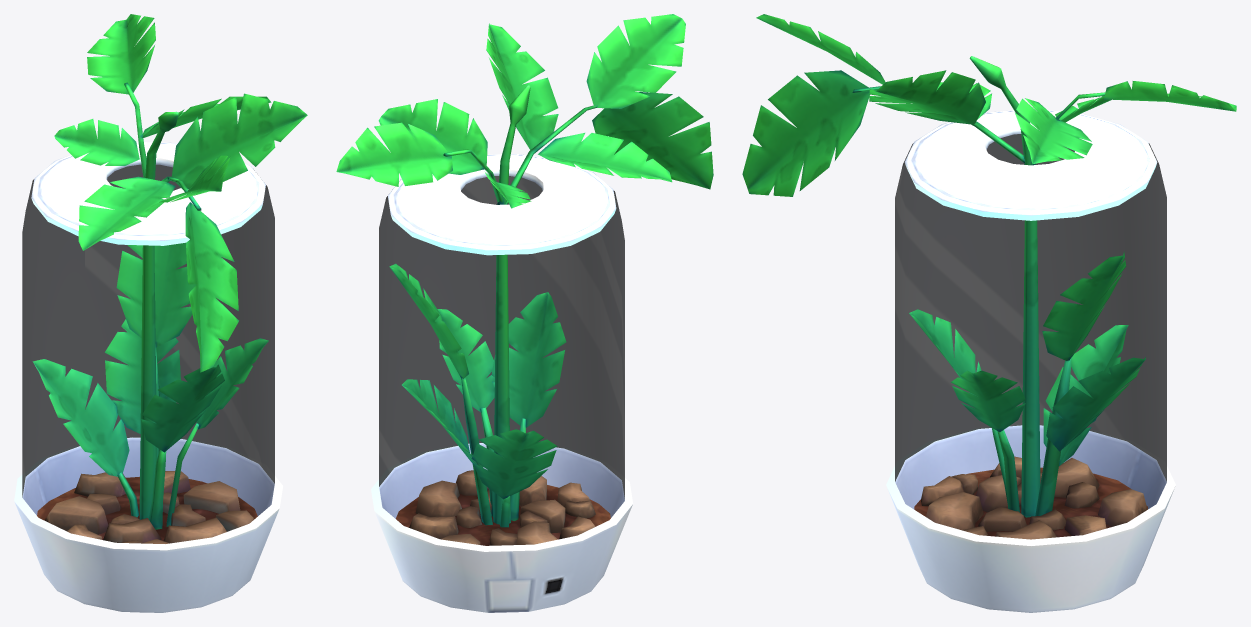
File: obj_plant04.gltf
3 views of the same model, side by side, from view 1: azimuth 30°, elevation 25°; view 2: azimuth 150°, elevation 25°; view 3: azimuth 270°, elevation 25° (orthographic). The views are drawn at different scales.
Parts seen in each view (by area): view 1: obj_plant04; view 2: obj_plant04; view 3: obj_plant04.
Part boxes in pixels (box(x1,y1,x2,y2)): obj_plant04: box(14, 14, 307, 612); obj_plant04: box(336, 14, 713, 612); obj_plant04: box(742, 14, 1236, 612).
Size of what is drawn, in the model's own units: 0.8288 by 1.6 by 1.36.
3 materials, 2 textured.
